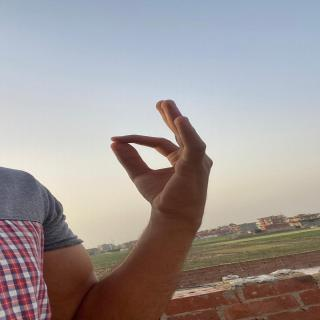Space: (107, 96, 219, 216)
